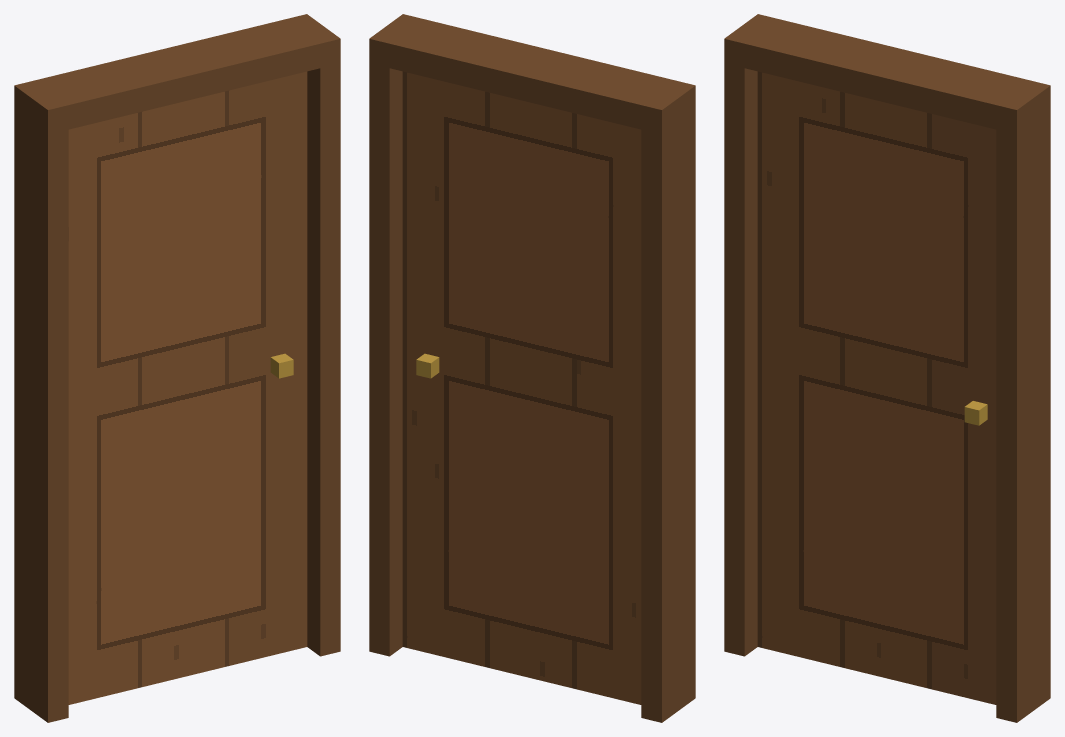
Rendered from t_door_c.glb.
3 views of the same model, side by side, from view 1: azimuth 30°, elevation 25°; view 2: azimuth 150°, elevation 25°; view 3: azimuth 330°, elevation 25° (orthographic).
Visible parts, largest first — view 1: block_panel, block_jamb-1, block_jamb1, block_head; view 2: block_panel, block_jamb-1, block_jamb1, block_head; view 3: block_panel, block_jamb1, block_jamb-1, block_head.
Boxes of the visible parts, bbox=[...] form: block_panel: bbox=[68, 71, 307, 704]; block_jamb-1: bbox=[14, 80, 68, 722]; block_jamb1: bbox=[287, 14, 340, 656]; block_head: bbox=[35, 19, 320, 129]; block_panel: bbox=[402, 71, 641, 704]; block_jamb-1: bbox=[641, 80, 695, 722]; block_jamb1: bbox=[369, 14, 422, 656]; block_head: bbox=[389, 19, 674, 129]; block_panel: bbox=[757, 71, 996, 704]; block_jamb1: bbox=[996, 80, 1050, 722]; block_jamb-1: bbox=[724, 14, 777, 656]; block_head: bbox=[744, 19, 1029, 129].
Size of the model in its own units: 1 by 2 by 0.2.
Materials: 2 (2 with a texture image).
